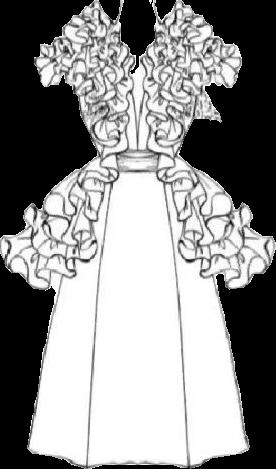Bodice: (34, 0, 241, 157)
Hemline: (150, 158, 275, 288), (0, 157, 119, 292), (25, 445, 249, 468)
Neckline: (94, 0, 179, 57)
Skirt: (0, 152, 275, 468)
Waistline: (95, 147, 179, 159)
